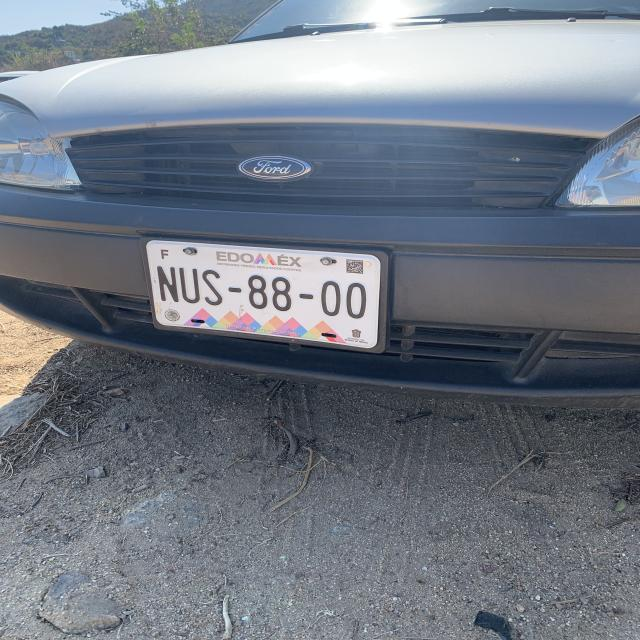placa: (142, 262, 377, 324)
